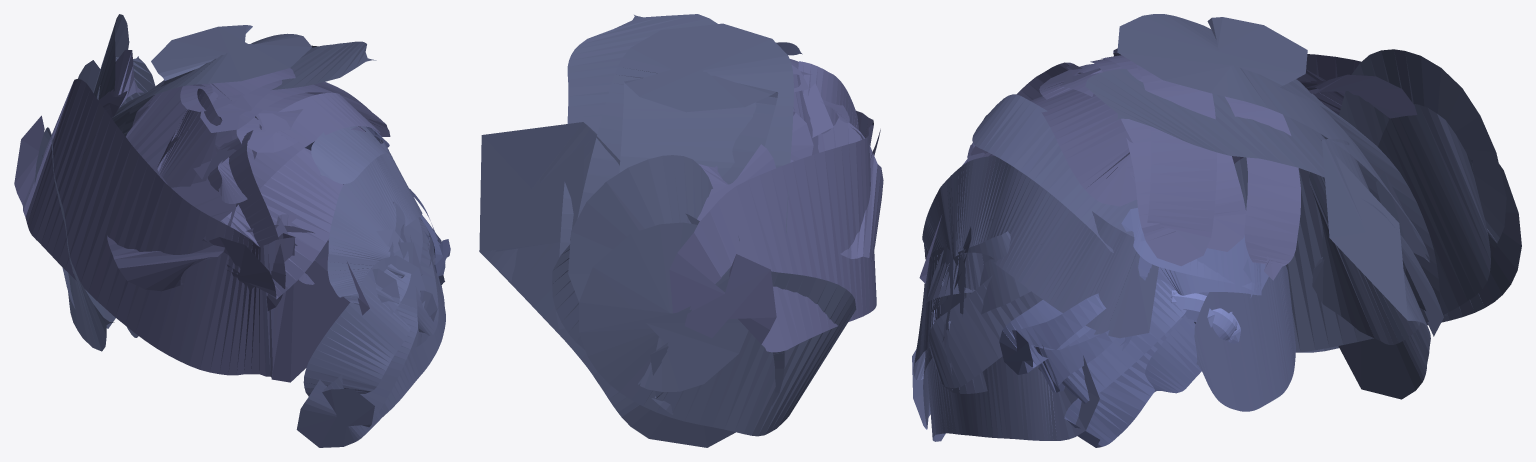
The picture shows the model from 3 angles, left to right: view 1: azimuth 30°, elevation 25°; view 2: azimuth 150°, elevation 25°; view 3: azimuth 270°, elevation 25°; orthographic projection. The views are drawn at different scales.
Parts seen in each view (by area): view 1: Everything; view 2: Everything; view 3: Everything.
Part boxes in pixels (x1,y1,x2,y2): Everything: [14, 14, 450, 447]; Everything: [479, 14, 883, 447]; Everything: [912, 14, 1521, 447].
Size of the model in its own units: 129 by 125 by 173.
